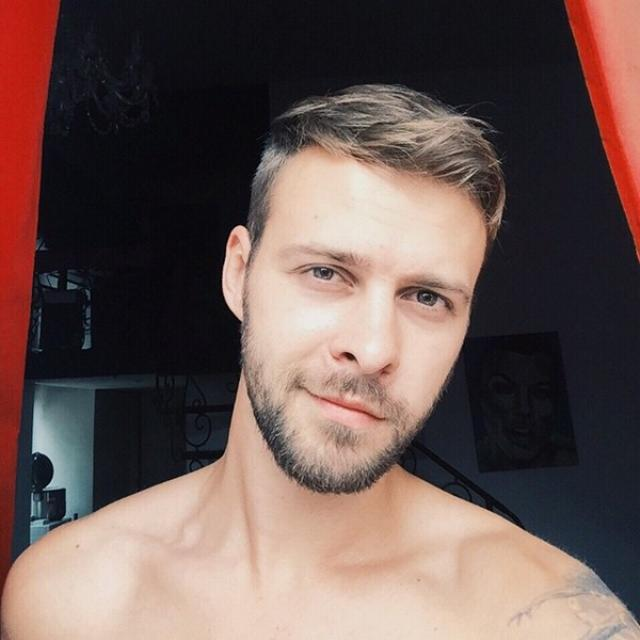earlobe: (222, 226, 252, 321)
